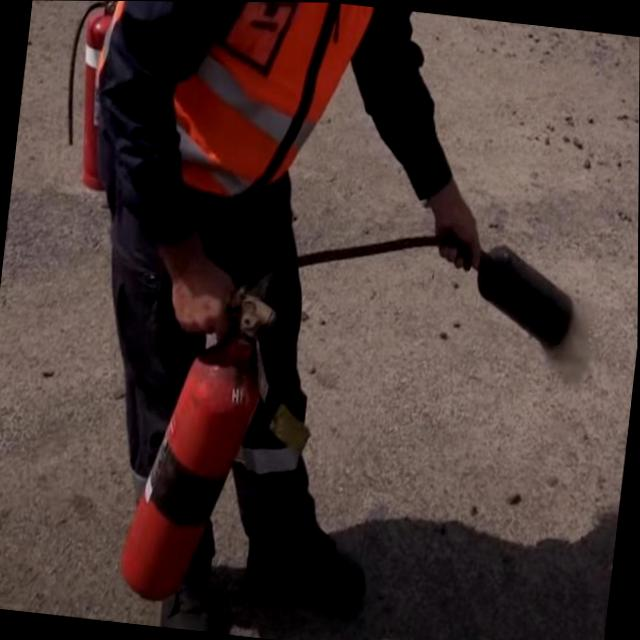FireExtinguisher: (115, 193, 585, 640), (53, 0, 153, 200)
